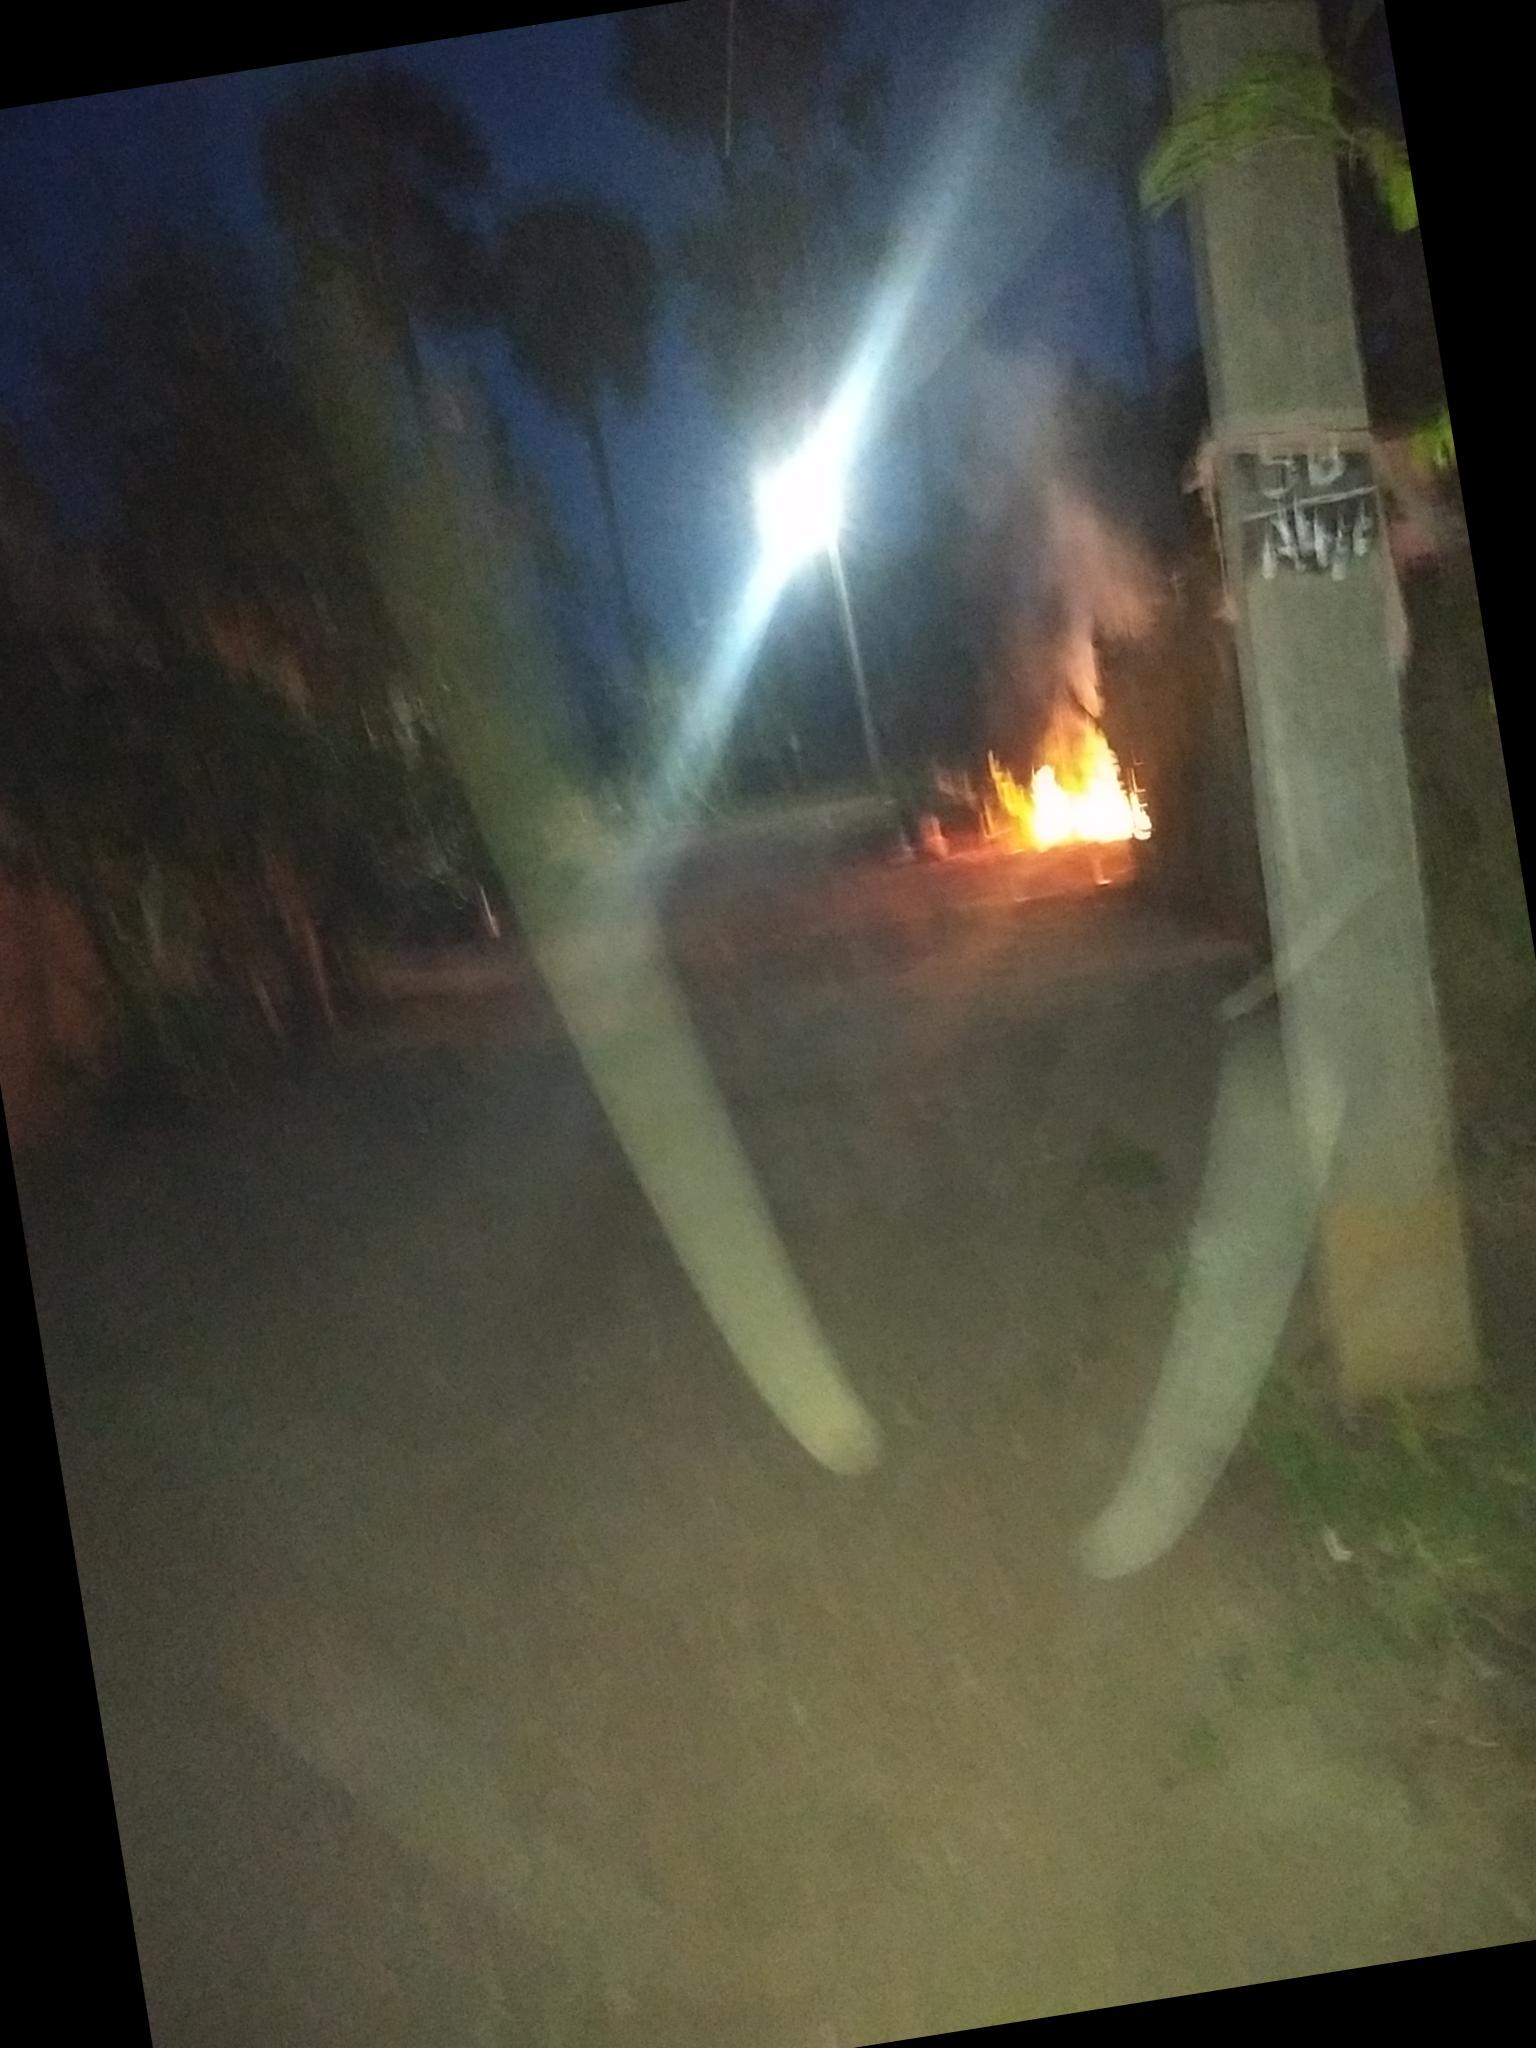Fire: (994, 713, 1158, 863)
